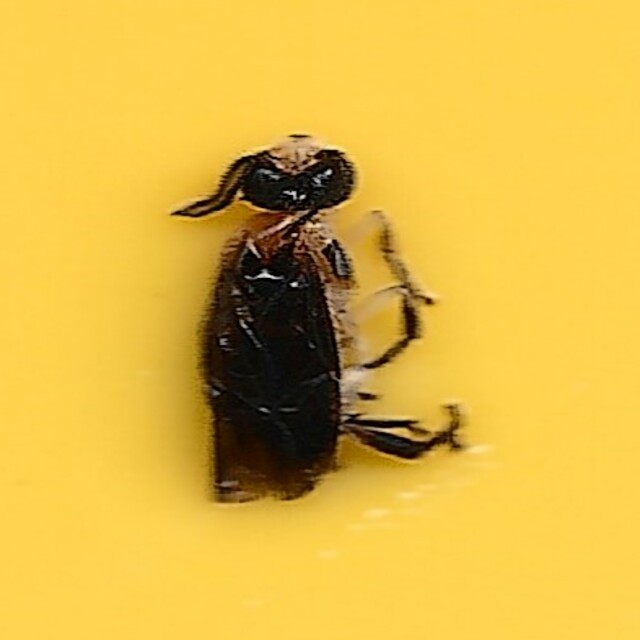Brachycera: (163, 132, 477, 508)
